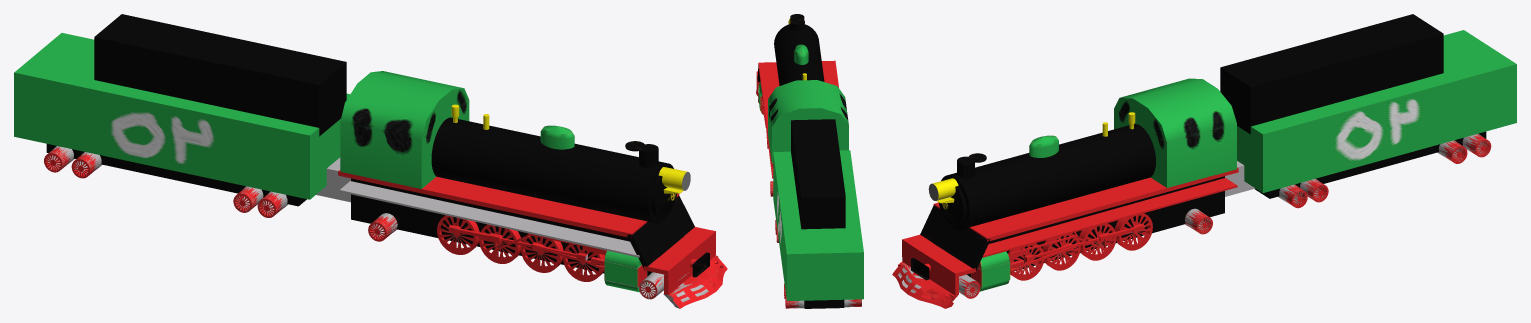
The model's file is jo_train.glb.
3 views of the same model, side by side, from view 1: azimuth 30°, elevation 25°; view 2: azimuth 150°, elevation 25°; view 3: azimuth 270°, elevation 25° (orthographic). The views are drawn at different scales.
Visible parts, largest first — view 1: node_id6_2; view 2: node_id6_2; view 3: node_id6_2.
Part boxes in pixels (x1=…): node_id6_2: x1=14, y1=14, x2=727, y2=308; node_id6_2: x1=756, y1=14, x2=863, y2=308; node_id6_2: x1=892, y1=14, x2=1516, y2=308.
Size of the model in its own units: 1.37 by 0.4251 by 1.88.
Materials: 2 (2 with a texture image).
